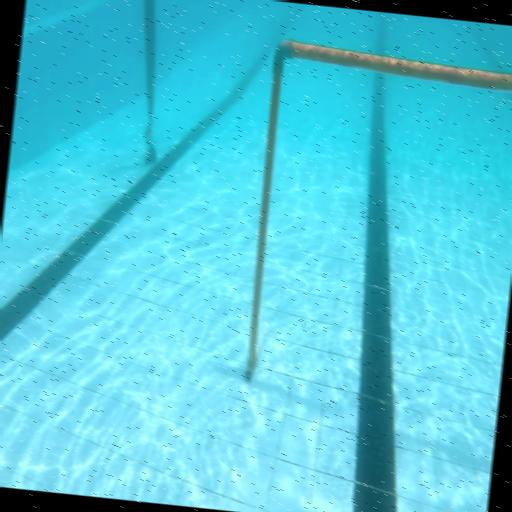gate: (235, 38, 512, 435)
